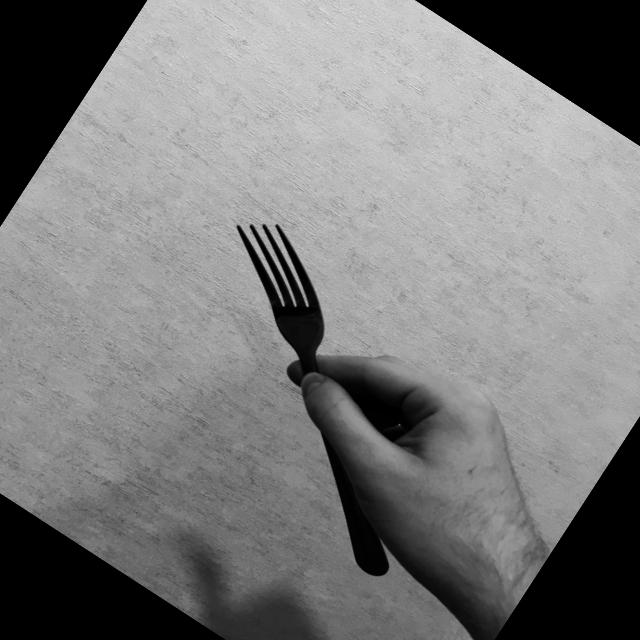fork: (111, 205, 514, 586)
